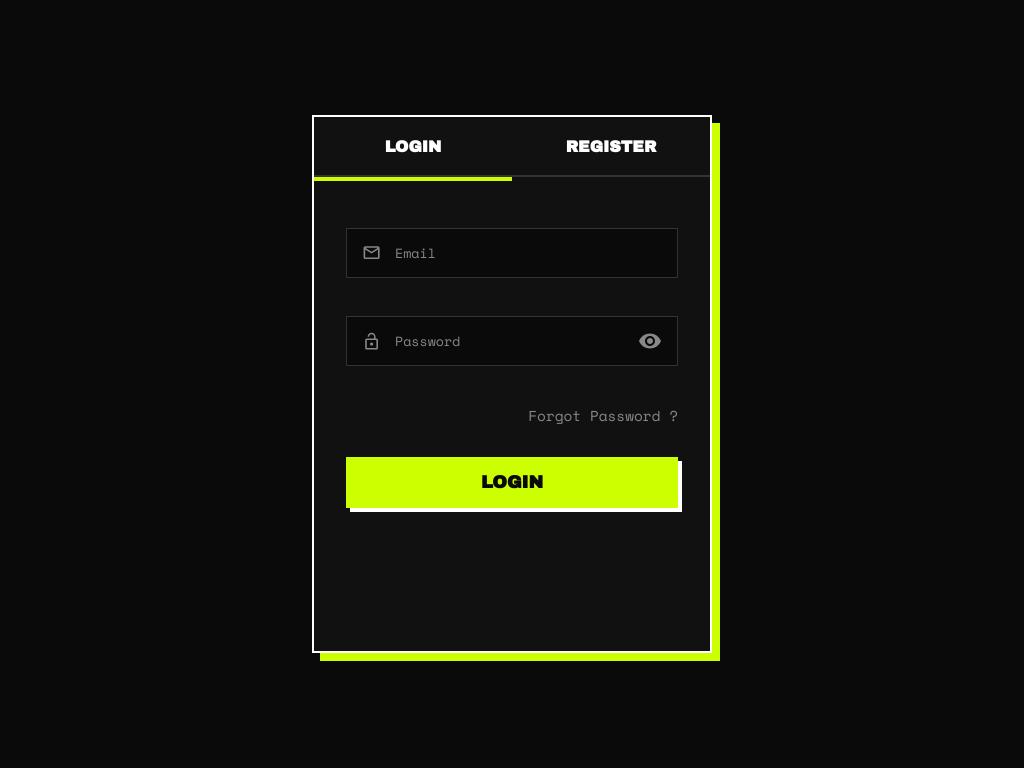
Test: LoginSignup Component › switches to Register tab
The image size is (1024, 768).
Click the tab "Register". click: click(611, 146)
box: [512,117,710,175]
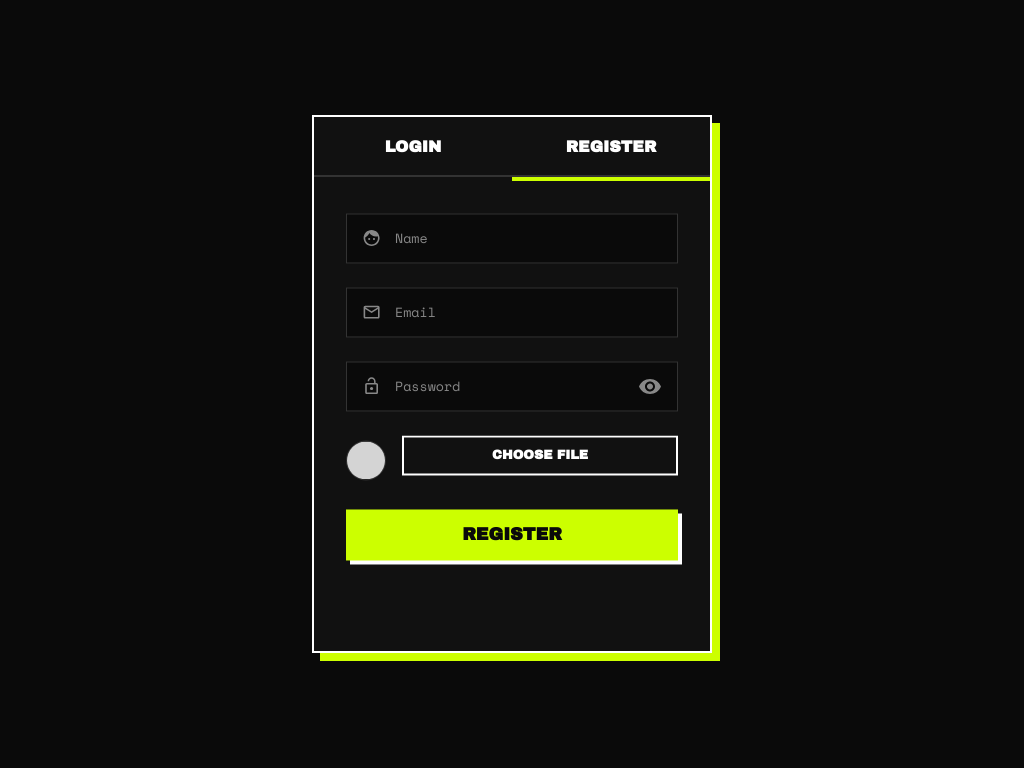
Result: the field with placeholder "Name" is shown at [346,213,678,263]
